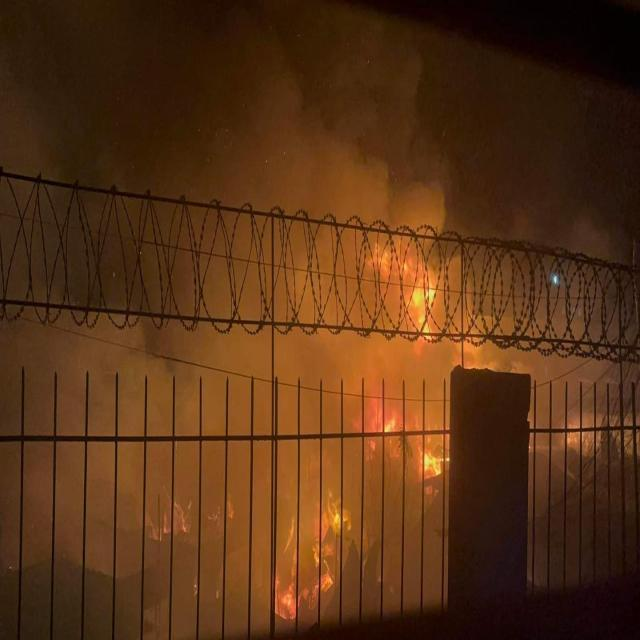Fire: (266, 374, 452, 620), (378, 242, 461, 343), (148, 485, 202, 550)
Smoke: (6, 1, 622, 599)
